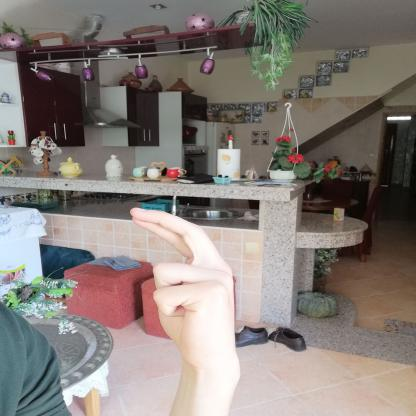ZAY: (116, 199, 249, 378)
